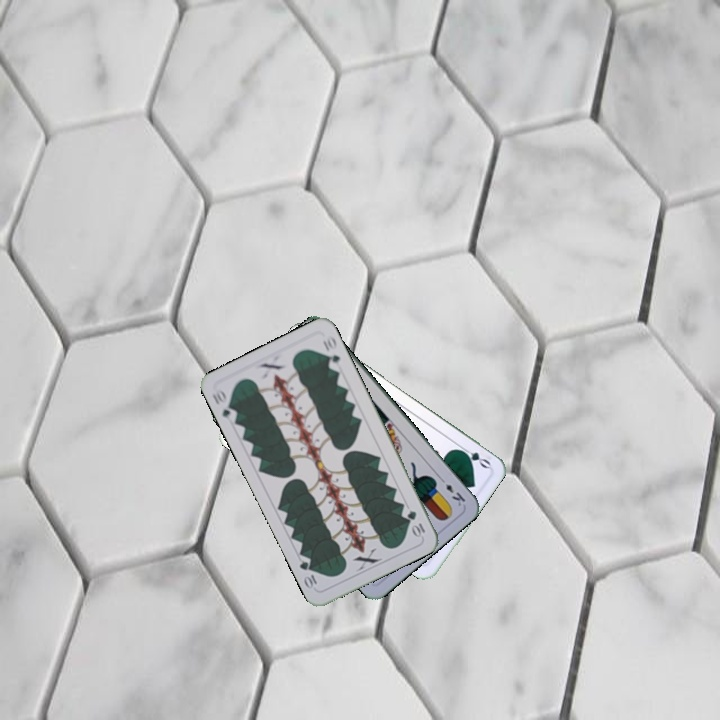EK: (435, 473, 468, 509)
G10: (208, 384, 240, 424), (403, 506, 428, 540)
GO: (454, 442, 493, 471)
